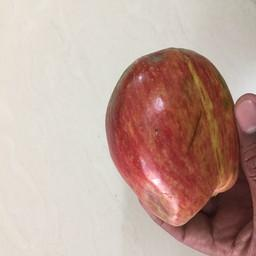Bad_apple: (105, 48, 240, 230)
